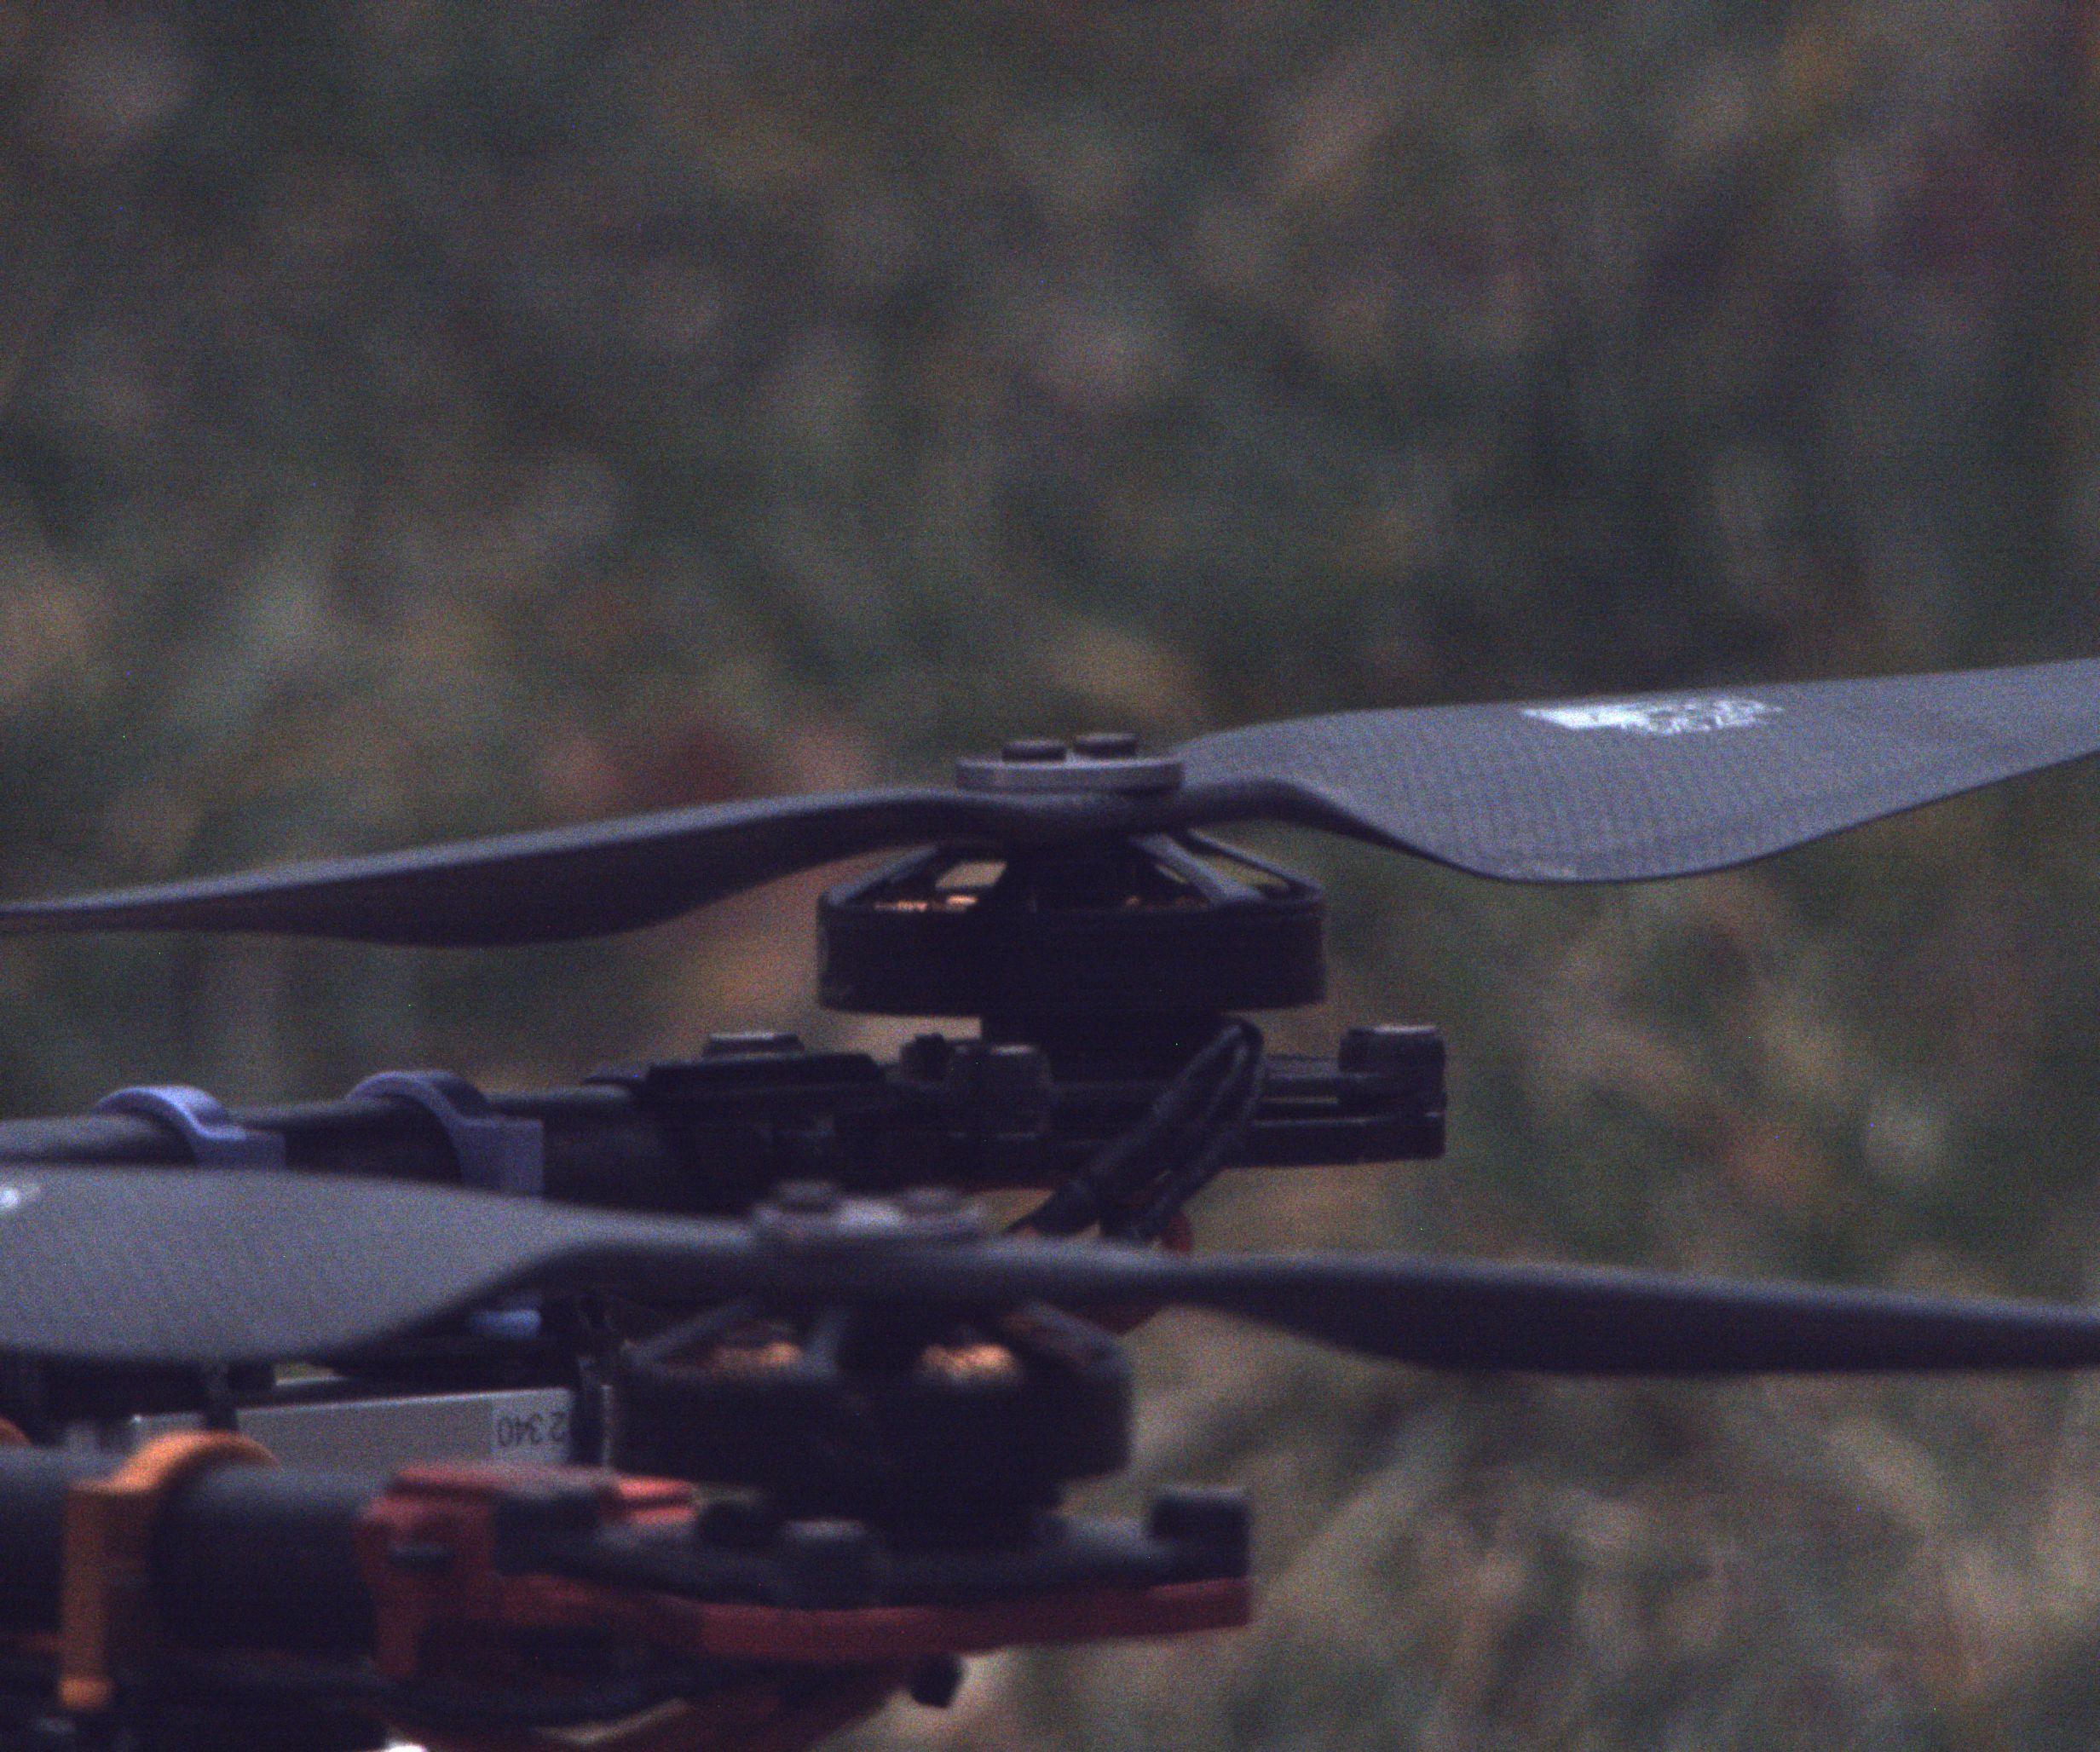Drohne: (0, 647, 2100, 1747)
